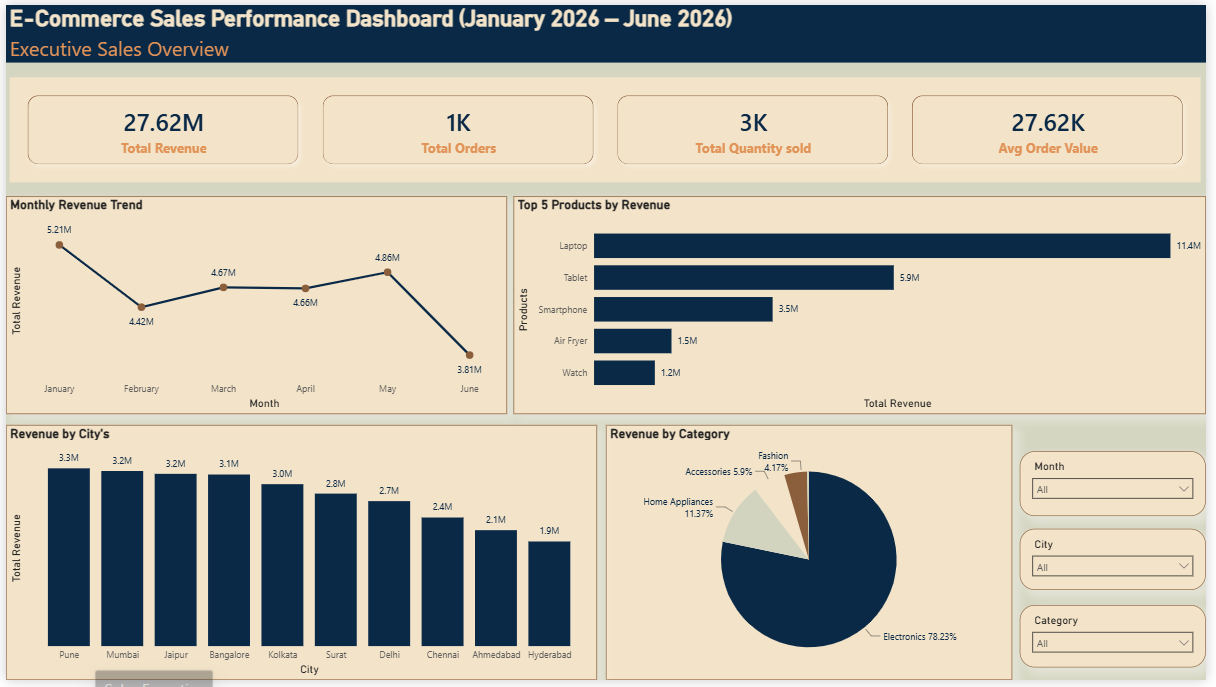

Layout of this report page (visuals, bound fields, positions):
{"tool":"powerbi","page":{"name":"Sales Executive","canvas":[1600,900],"ordinal":0},"visuals":[{"type":"textbox","title":"E-Commerce Sales Performance Dashboard (January 2026 – June 2026)","box":[0,0,1600,76.7],"z":0},{"type":"cardVisual","fields":{"Data":["DAX Table.Total Revenue","DAX Table.Total Orders","DAX Table.Total Quantity sold","DAX Table.Avg Order Value","DAX Table.Total Orders"]},"box":[0,91.7,1600,150],"z":1000},{"type":"lineChart","title":"Monthly Revenue Trend","fields":{"Y":["Sum(Ecommerce_Sales_jan_june26.Total_price)"],"Category":["Ecommerce_Sales_jan_june26.Month"]},"box":[0,255,668.3,290],"z":2000},{"type":"pieChart","title":"Revenue by Category","fields":{"Y":["Sum(Ecommerce_Sales_jan_june26.Total_price)"],"Category":["Ecommerce_Sales_jan_june26.Category"]},"box":[800,560,541.7,340],"z":3000},{"type":"clusteredBarChart","title":"Top 5 Products by Revenue","fields":{"Y":["Sum(Ecommerce_Sales_jan_june26.Total_price)"],"Category":["Ecommerce_Sales_jan_june26.Product"]},"box":[676.7,255,923.3,290],"z":4000},{"type":"clusteredColumnChart","title":"Revenue by City''s","fields":{"Y":["Sum(Ecommerce_Sales_jan_june26.Total_price)"],"Category":["Ecommerce_Sales_jan_june26.City"]},"box":[0,560,788.3,340],"z":5000},{"type":"slicer","fields":{"Values":["Ecommerce_Sales_jan_june26.Month"]},"box":[1351.7,595,248.3,86.7],"z":6000},{"type":"slicer","fields":{"Values":["Ecommerce_Sales_jan_june26.City"]},"box":[1351.7,698.3,248.3,81.7],"z":7000},{"type":"slicer","fields":{"Values":["Ecommerce_Sales_jan_june26.Category"]},"box":[1351.7,800,248.3,83.3],"z":8000}]}

Visuals, with their boxes in screenshot pixels (x1, y1, x2, y2), scaled from the page's 1600x900 canvas onto the 1216x687 screenshot:
"E-Commerce Sales Performance Dashboard (January 2026 – June 2026)" textbox: {"left": 0, "top": 0, "right": 1215, "bottom": 59}
cardVisual - DAX Table.Total Revenue x DAX Table.Total Orders: {"left": 0, "top": 70, "right": 1215, "bottom": 184}
"Monthly Revenue Trend" lineChart: {"left": 0, "top": 195, "right": 508, "bottom": 416}
"Revenue by Category" pieChart: {"left": 608, "top": 427, "right": 1020, "bottom": 686}
"Top 5 Products by Revenue" clusteredBarChart: {"left": 514, "top": 195, "right": 1215, "bottom": 416}
"Revenue by City''s" clusteredColumnChart: {"left": 0, "top": 427, "right": 599, "bottom": 686}
slicer - Ecommerce_Sales_jan_june26.Month: {"left": 1027, "top": 454, "right": 1215, "bottom": 520}
slicer - Ecommerce_Sales_jan_june26.City: {"left": 1027, "top": 533, "right": 1215, "bottom": 595}
slicer - Ecommerce_Sales_jan_june26.Category: {"left": 1027, "top": 611, "right": 1215, "bottom": 674}
